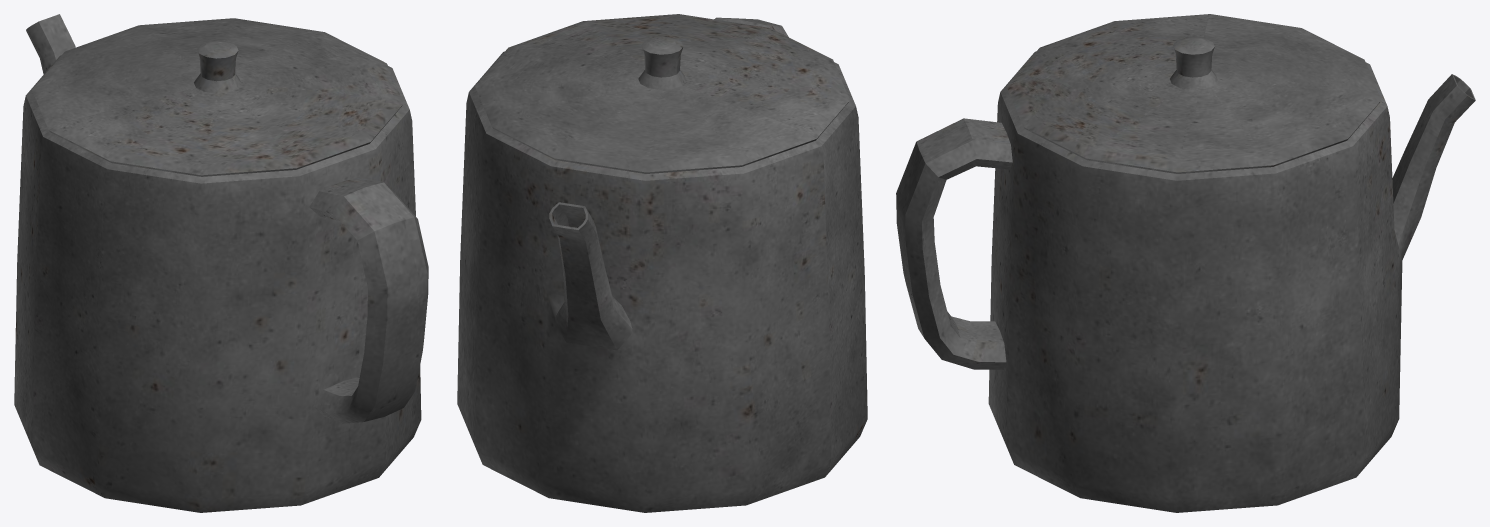
File: Teapot.fbx
3 renders of one model, left to right at view 1: azimuth 30°, elevation 25°; view 2: azimuth 150°, elevation 25°; view 3: azimuth 270°, elevation 25°, orthographic.
Visible parts, largest first — view 1: Teapot; view 2: Teapot; view 3: Teapot.
Boxes of the visible parts, <box> form: Teapot: <box>14,14,428,512</box>; Teapot: <box>457,14,867,512</box>; Teapot: <box>896,14,1475,512</box>.
Size of the model in its own units: 16.14 by 17.05 by 22.79.
Materials: 1 (1 with a texture image).
